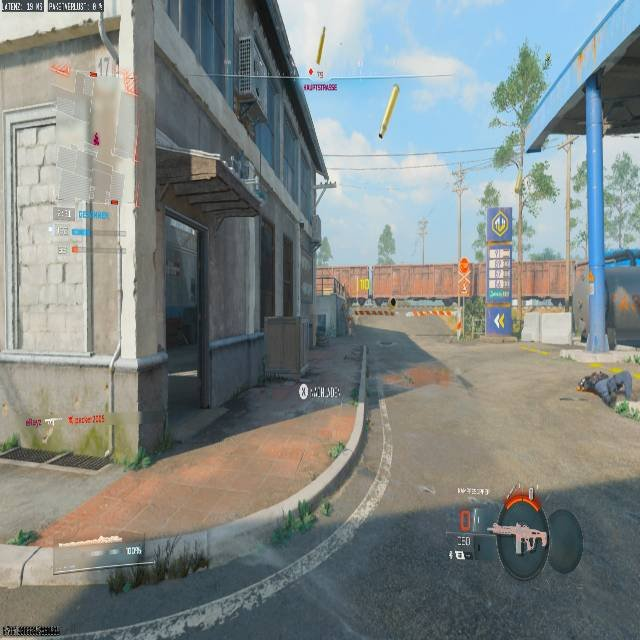player: (346, 312, 355, 336)
